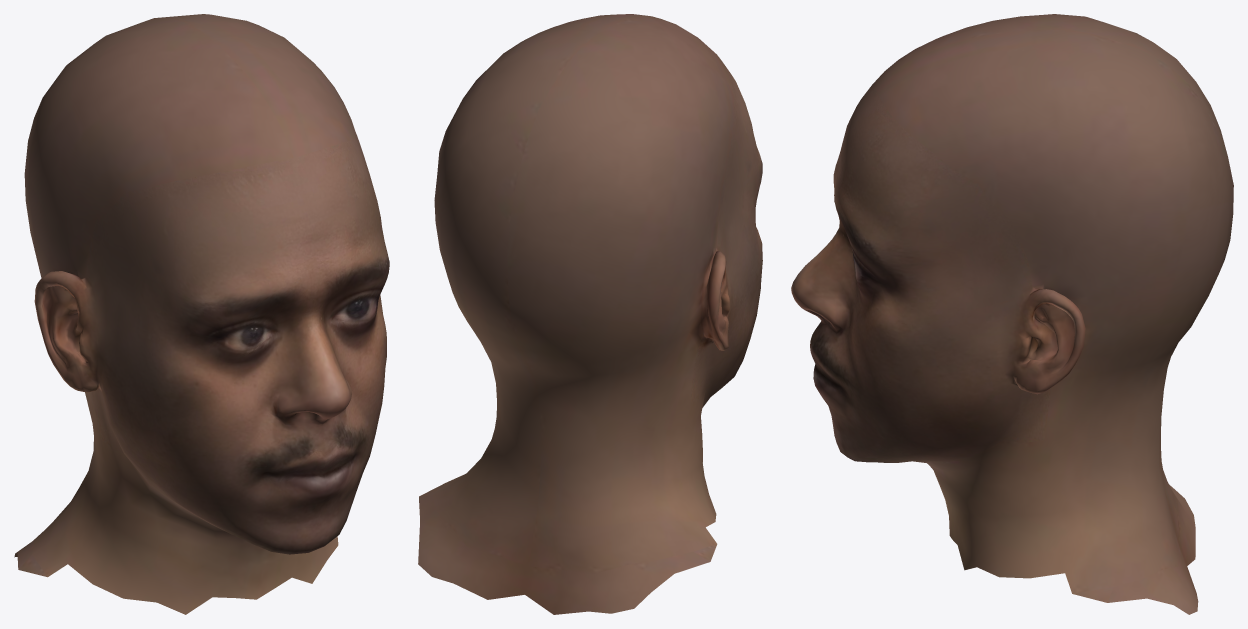
The model's file is head.glb.
3 views of the same model, side by side, from view 1: azimuth 30°, elevation 25°; view 2: azimuth 150°, elevation 25°; view 3: azimuth 270°, elevation 25° (orthographic). The views are drawn at different scales.
Parts seen in each view (by area): view 1: Head; view 2: Head; view 3: Head.
Boxes of the visible parts, x1=… form: Head: x1=14, y1=14, x2=389, y2=614; Head: x1=418, y1=14, x2=762, y2=614; Head: x1=791, y1=14, x2=1233, y2=614.
Bounding box in the file's own units: 0.1869 × 0.3215 × 0.2364.
Materials: 1 (1 with a texture image).
